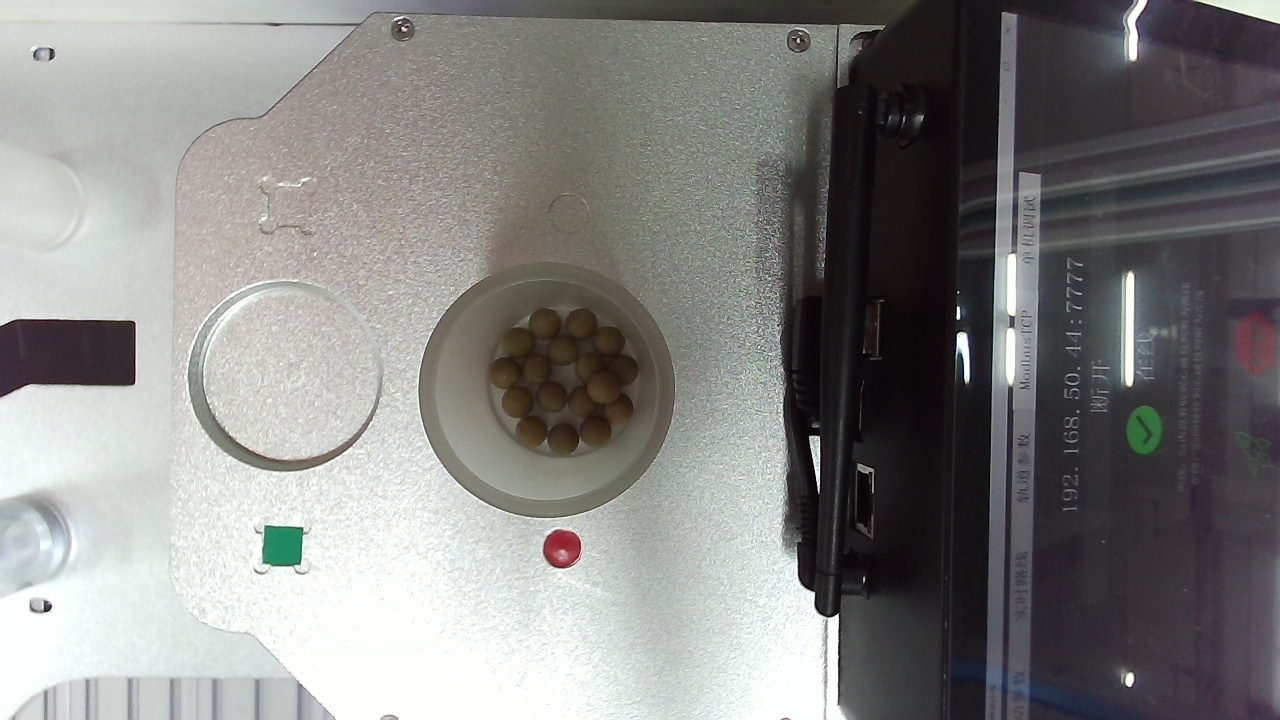XLabel: (461, 19, 529, 88)
YLabel: (885, 57, 953, 128)
transparentempty: (176, 60, 626, 477)
whiteempty: (765, 145, 1160, 516)
